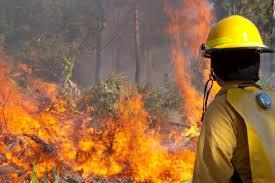fire: (2, 46, 206, 181)
